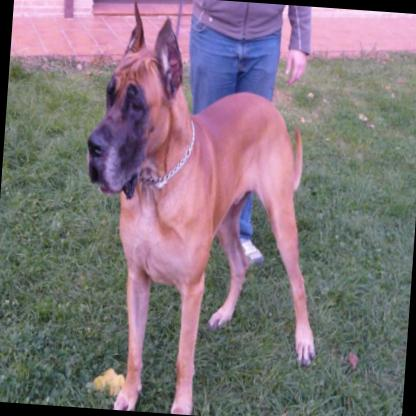Great_Dane: (68, 0, 340, 416)
